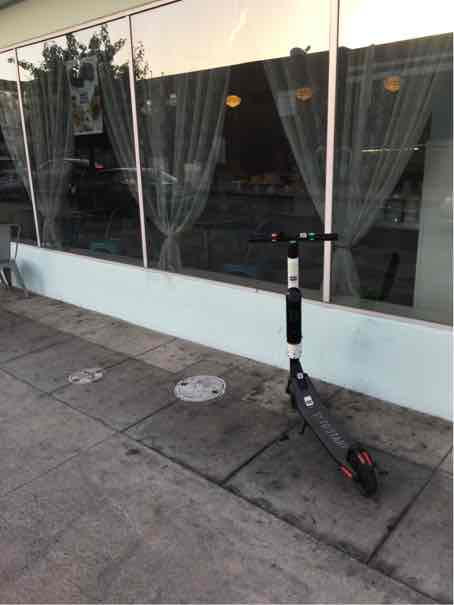scooter: (250, 223, 388, 502)
